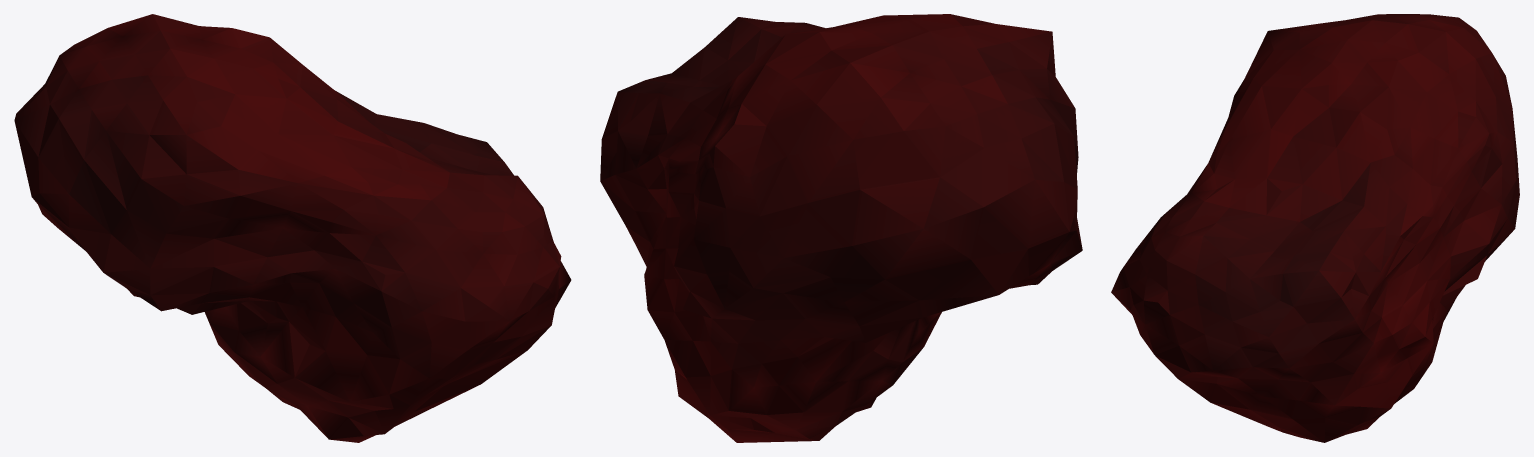
The model's file is geology-rocks-asteroidhuge_v1.fbx.
3 views of the same model, side by side, from view 1: azimuth 30°, elevation 25°; view 2: azimuth 150°, elevation 25°; view 3: azimuth 270°, elevation 25° (orthographic). The views are drawn at different scales.
Parts seen in each view (by area): view 1: AsteroidHuge_v1; view 2: AsteroidHuge_v1; view 3: AsteroidHuge_v1.
Boxes of the visible parts, x1,y1,x2,y2 form: AsteroidHuge_v1: (14, 14, 571, 442); AsteroidHuge_v1: (600, 14, 1082, 442); AsteroidHuge_v1: (1111, 14, 1519, 442).
Bounding box in the file's own units: 2.27 × 1.93 × 2.04.
